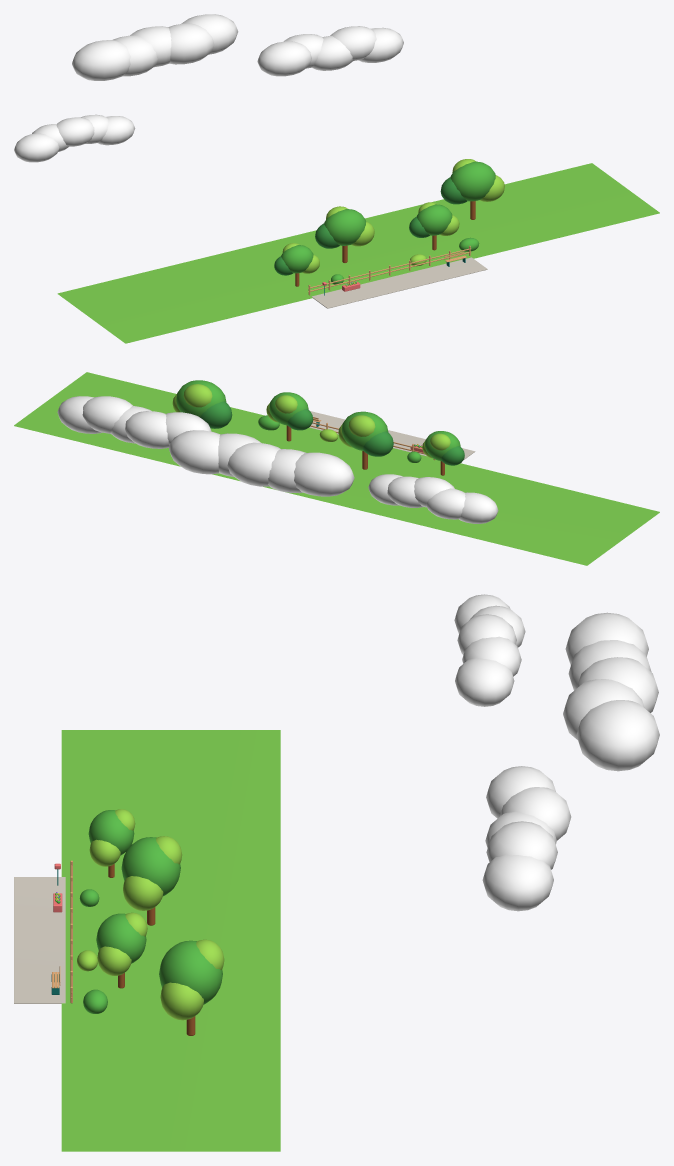
Rendered from Street.fbx.
The picture shows the model from 3 angles, top to bottom: view 1: azimuth 30°, elevation 25°; view 2: azimuth 150°, elevation 25°; view 3: azimuth 270°, elevation 25°; orthographic projection. The views are drawn at different scales.
Visible parts, largest first — view 1: Street mesh; view 2: Street mesh; view 3: Street mesh.
Boxes of the visible parts, left/top/right/bottom form: Street mesh: left=14, top=14, right=659, bottom=343; Street mesh: left=14, top=372, right=659, bottom=565; Street mesh: left=14, top=594, right=659, bottom=1151.
Bounding box in the file's own units: 50 × 12.69 × 32.47.
